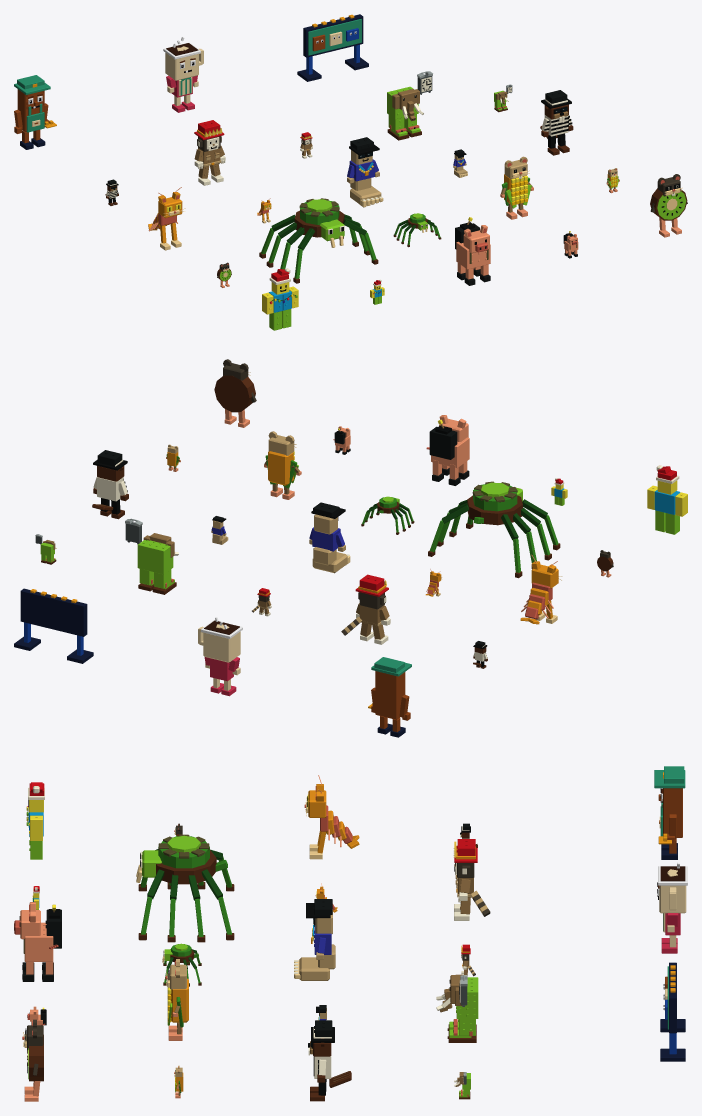
File: ReviewImport.glb
3 renders of one model, top to bottom at view 1: azimuth 30°, elevation 25°; view 2: azimuth 150°, elevation 25°; view 3: azimuth 270°, elevation 25°, orthographic. The views are drawn at different scales.
Parts seen in each view (by area): view 1: Tartaragno, BrainrotMarketSign, BrainrotLogKeeper, BrainrotCoffeeKeeper, SvininaBombardino, LiriliLarila, GangsterFootera, NoobiniSantanini, RaccooniJandelini, BanditoBobritto, PipiKiwi, PipiCorni (+2 smaller); view 2: Tartaragno, BrainrotMarketSign, BrainrotLogKeeper, LiriliLarila, BrainrotCoffeeKeeper, SvininaBombardino, GangsterFootera, RaccooniJandelini, NoobiniSantanini, PipiKiwi, BanditoBobritto, PipiCorni (+2 smaller); view 3: Tartaragno, SvininaBombardino, BrainrotLogKeeper, GangsterFootera, LiriliLarila, BrainrotCoffeeKeeper, BanditoBobritto, RaccooniJandelini, TrippiTroppi, PipiCorni, BrainrotMarketSign, PipiKiwi (+2 smaller).
Boxes of the visible parts, x1,y1,x2,y2 form: Tartaragno: (259,198,378,283); BrainrotMarketSign: (297,14,368,81); BrainrotLogKeeper: (14,75,56,149); BrainrotCoffeeKeeper: (163,37,203,112); SvininaBombardino: (455,217,490,285); LiriliLarila: (387,71,432,140); GangsterFootera: (347,137,383,207); NoobiniSantanini: (262,268,298,330); RaccooniJandelini: (194,120,225,185); BanditoBobritto: (540,90,573,155); PipiKiwi: (650,174,687,237); PipiCorni: (500,156,533,219); Tartaragno: (428,481,560,578); BrainrotMarketSign: (14,588,93,663); BrainrotLogKeeper: (368,657,411,737); LiriliLarila: (125,518,178,594); BrainrotCoffeeKeeper: (198,617,242,696); SvininaBombardino: (426,415,469,485); GangsterFootera: (309,502,350,573); RaccooniJandelini: (341,574,390,644); NoobiniSantanini: (647,465,687,534); PipiKiwi: (214,359,256,427); BanditoBobritto: (92,450,128,519); PipiCorni: (264,431,301,499); Tartaragno: (136,834,234,942); SvininaBombardino: (14,902,61,981); BrainrotLogKeeper: (654,766,685,859); GangsterFootera: (294,899,335,980); LiriliLarila: (436,974,478,1042); BrainrotCoffeeKeeper: (657,862,687,953); BanditoBobritto: (308,1020,351,1101); RaccooniJandelini: (453,839,490,920); TrippiTroppi: (304,775,359,859); PipiCorni: (165,959,188,1040); BrainrotMarketSign: (660,962,685,1061); PipiKiwi: (22,1019,43,1101).
Size of the model in its own units: 39.2 by 6.07 by 42.36.
2 materials, 2 textured.
